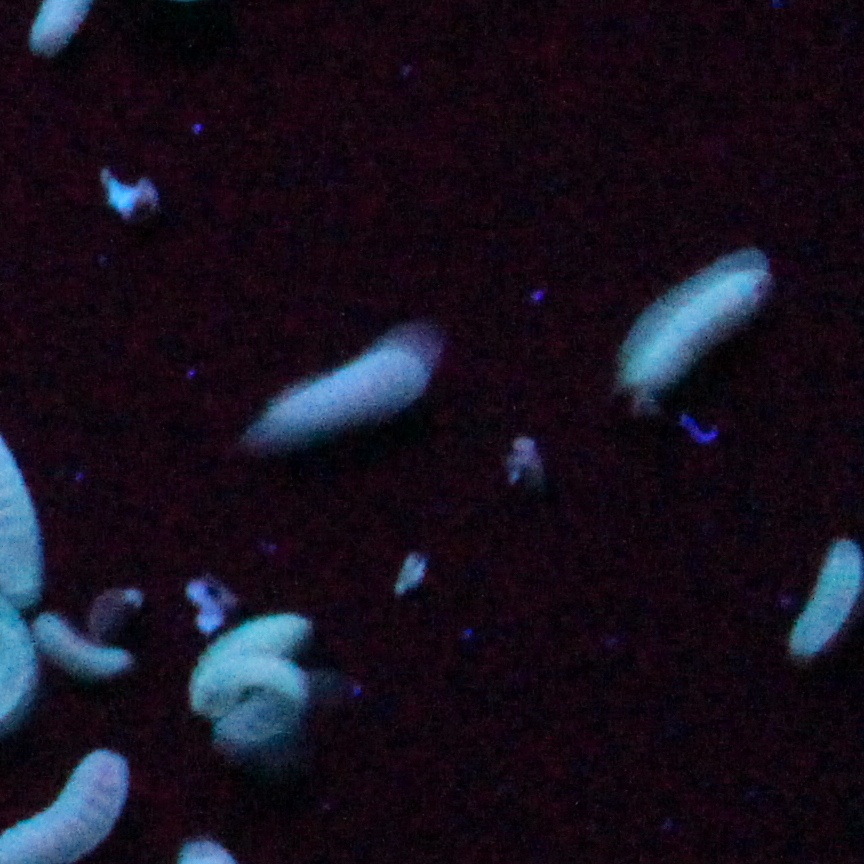larve: (628, 253, 768, 393), (255, 346, 422, 433), (188, 613, 315, 726), (34, 613, 131, 675)
